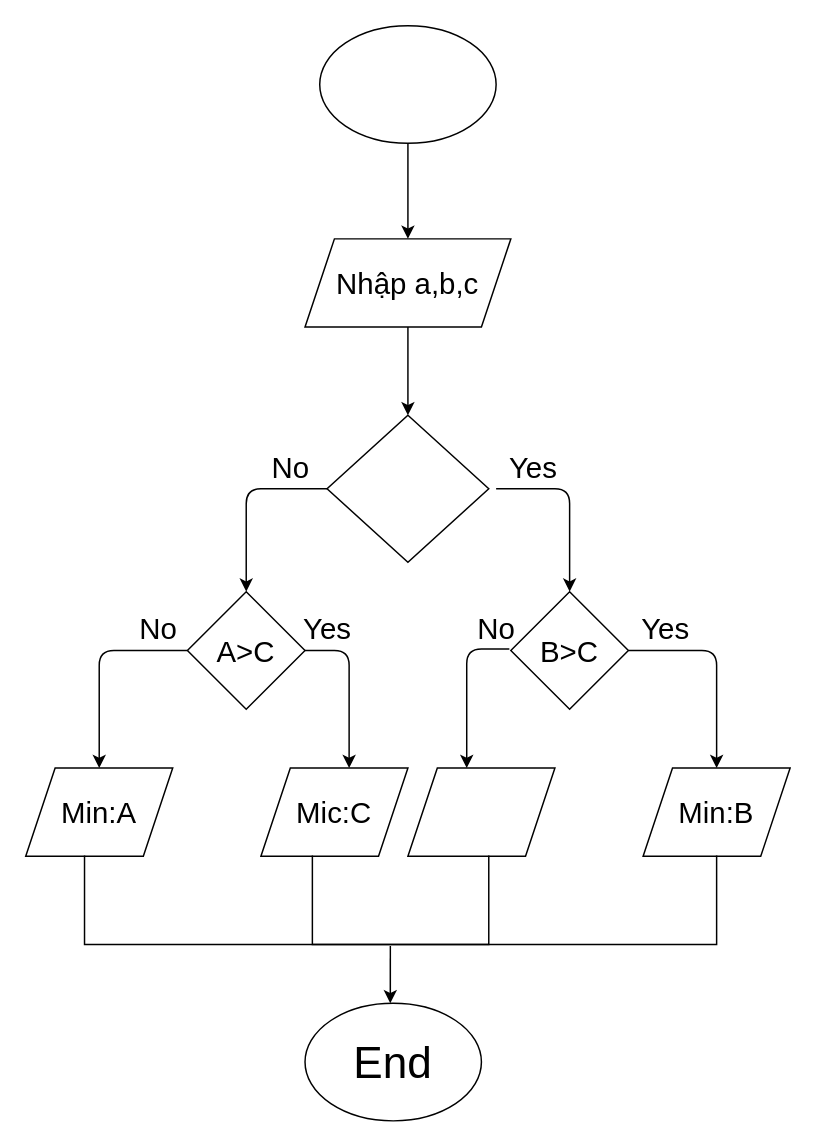
This 816x1147 diagram has some shape labels left out. Each missing label, with the centre of its shape:
"A>B" belongs at pixel 407 488.
"Min:C" belongs at pixel 480 811.
"Start" belongs at pixel 407 83.
